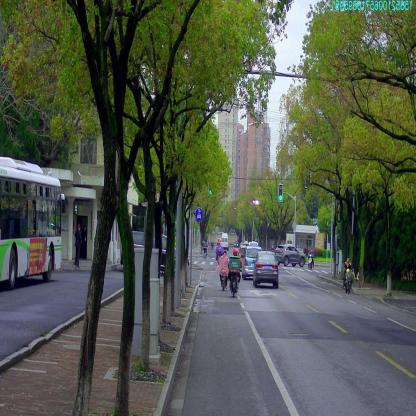traffic-light: (279, 184, 283, 201), (209, 183, 212, 195)
